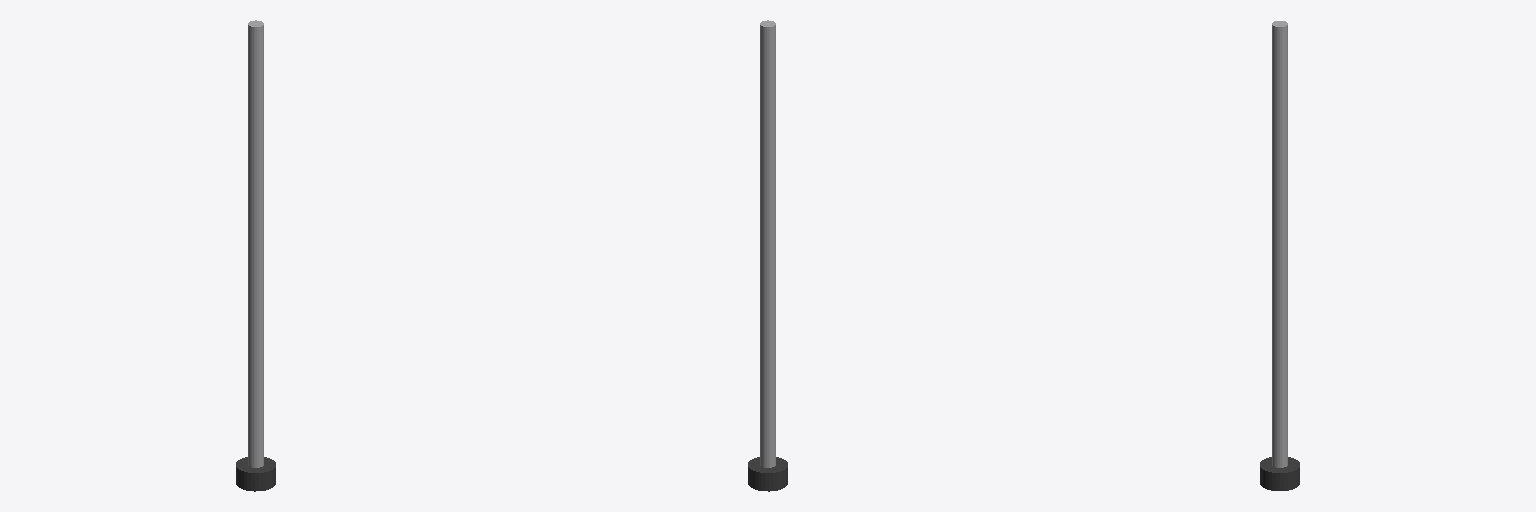
robot.urdf — five_dof_arm:
<?xml version="1.0"?>
<robot name="five_dof_arm">

  <!-- ========================================================= -->
  <!-- MATERIALS -->
  <!-- ========================================================= -->

  <material name="gray">
    <color rgba="0.7 0.7 0.7 1"/>
  </material>

  <material name="dark">
    <color rgba="0.3 0.3 0.3 1"/>
  </material>

  <!-- ========================================================= -->
  <!-- BASE LINK -->
  <!-- ========================================================= -->

  <link name="base_link">

    <visual>
      <origin xyz="0 0 0.05" rpy="0 0 0"/>
      <geometry>
        <cylinder radius="0.10" length="0.10"/>
      </geometry>
      <material name="dark"/>
    </visual>

    <collision>
      <origin xyz="0 0 0.05" rpy="0 0 0"/>
      <geometry>
        <cylinder radius="0.10" length="0.10"/>
      </geometry>
    </collision>

    <inertial>
      <origin xyz="0 0 0.05" rpy="0 0 0"/>
      <mass value="5.0"/>

      <inertia
        ixx="0.02"
        ixy="0.0"
        ixz="0.0"
        iyy="0.02"
        iyz="0.0"
        izz="0.01"/>
    </inertial>

  </link>

  <!-- ========================================================= -->
  <!-- LINK 1 -->
  <!-- ========================================================= -->

  <link name="link1">

    <visual>
      <origin xyz="0 0 0.25" rpy="0 0 0"/>
      <geometry>
        <cylinder radius="0.04" length="0.50"/>
      </geometry>
      <material name="gray"/>
    </visual>

    <collision>
      <origin xyz="0 0 0.25" rpy="0 0 0"/>
      <geometry>
        <cylinder radius="0.04" length="0.50"/>
      </geometry>
    </collision>

    <inertial>
      <origin xyz="0 0 0.25" rpy="0 0 0"/>
      <mass value="1.0"/>

      <inertia
        ixx="0.025"
        ixy="0.0"
        ixz="0.0"
        iyy="0.025"
        iyz="0.0"
        izz="0.001"/>
    </inertial>

  </link>

  <!-- ========================================================= -->
  <!-- LINK 2 -->
  <!-- ========================================================= -->

  <link name="link2">

    <visual>
      <origin xyz="0 0 0.25" rpy="0 0 0"/>
      <geometry>
        <cylinder radius="0.04" length="0.50"/>
      </geometry>
      <material name="gray"/>
    </visual>

    <collision>
      <origin xyz="0 0 0.25" rpy="0 0 0"/>
      <geometry>
        <cylinder radius="0.04" length="0.50"/>
      </geometry>
    </collision>

    <inertial>
      <origin xyz="0 0 0.25" rpy="0 0 0"/>
      <mass value="1.0"/>

      <inertia
        ixx="0.025"
        ixy="0.0"
        ixz="0.0"
        iyy="0.025"
        iyz="0.0"
        izz="0.001"/>
    </inertial>

  </link>

  <!-- ========================================================= -->
  <!-- LINK 3 -->
  <!-- ========================================================= -->

  <link name="link3">

    <visual>
      <origin xyz="0 0 0.25" rpy="0 0 0"/>
      <geometry>
        <cylinder radius="0.04" length="0.50"/>
      </geometry>
      <material name="gray"/>
    </visual>

    <collision>
      <origin xyz="0 0 0.25" rpy="0 0 0"/>
      <geometry>
        <cylinder radius="0.04" length="0.50"/>
      </geometry>
    </collision>

    <inertial>
      <origin xyz="0 0 0.25" rpy="0 0 0"/>
      <mass value="1.0"/>

      <inertia
        ixx="0.025"
        ixy="0.0"
        ixz="0.0"
        iyy="0.025"
        iyz="0.0"
        izz="0.001"/>
    </inertial>

  </link>

  <!-- ========================================================= -->
  <!-- LINK 4 -->
  <!-- ========================================================= -->

  <link name="link4">

    <visual>
      <origin xyz="0 0 0.25" rpy="0 0 0"/>
      <geometry>
        <cylinder radius="0.04" length="0.50"/>
      </geometry>
      <material name="gray"/>
    </visual>

    <collision>
      <origin xyz="0 0 0.25" rpy="0 0 0"/>
      <geometry>
        <cylinder radius="0.04" length="0.50"/>
      </geometry>
    </collision>

    <inertial>
      <origin xyz="0 0 0.25" rpy="0 0 0"/>
      <mass value="1.0"/>

      <inertia
        ixx="0.025"
        ixy="0.0"
        ixz="0.0"
        iyy="0.025"
        iyz="0.0"
        izz="0.001"/>
    </inertial>

  </link>

  <!-- ========================================================= -->
  <!-- LINK 5 -->
  <!-- ========================================================= -->

  <link name="link5">

    <visual>
      <origin xyz="0 0 0.20" rpy="0 0 0"/>
      <geometry>
        <cylinder radius="0.04" length="0.40"/>
      </geometry>
      <material name="gray"/>
    </visual>

    <collision>
      <origin xyz="0 0 0.20" rpy="0 0 0"/>
      <geometry>
        <cylinder radius="0.04" length="0.40"/>
      </geometry>
    </collision>

    <inertial>
      <origin xyz="0 0 0.20" rpy="0 0 0"/>
      <mass value="0.8"/>

      <inertia
        ixx="0.015"
        ixy="0.0"
        ixz="0.0"
        iyy="0.015"
        iyz="0.0"
        izz="0.001"/>
    </inertial>

  </link>

  <!-- ========================================================= -->
  <!-- JOINT 1 : BASE YAW -->
  <!-- ========================================================= -->

  <joint name="joint1" type="revolute">

    <parent link="base_link"/>
    <child link="link1"/>

    <origin xyz="0 0 0.10" rpy="0 0 0"/>

    <!-- rotation about z -->
    <axis xyz="0 0 1"/>

    <limit
      lower="-3.14"
      upper="3.14"
      effort="20"
      velocity="2"/>

  </joint>

  <!-- ========================================================= -->
  <!-- JOINT 2 -->
  <!-- ========================================================= -->

  <joint name="joint2" type="revolute">

    <parent link="link1"/>
    <child link="link2"/>

    <origin xyz="0 0 0.50" rpy="0 0 0"/>

    <!-- elbow style -->
    <axis xyz="0 1 0"/>

    <limit
      lower="-1.57"
      upper="1.57"
      effort="15"
      velocity="2"/>

  </joint>

  <!-- ========================================================= -->
  <!-- JOINT 3 -->
  <!-- ========================================================= -->

  <joint name="joint3" type="revolute">

    <parent link="link2"/>
    <child link="link3"/>

    <origin xyz="0 0 0.50" rpy="0 0 0"/>

    <axis xyz="0 1 0"/>

    <limit
      lower="-1.57"
      upper="1.57"
      effort="15"
      velocity="2"/>

  </joint>

  <!-- ========================================================= -->
  <!-- JOINT 4 -->
  <!-- ========================================================= -->

  <joint name="joint4" type="revolute">

    <parent link="link3"/>
    <child link="link4"/>

    <origin xyz="0 0 0.50" rpy="0 0 0"/>

    <axis xyz="0 1 0"/>

    <limit
      lower="-1.57"
      upper="1.57"
      effort="10"
      velocity="2"/>

  </joint>

  <!-- ========================================================= -->
  <!-- JOINT 5 -->
  <!-- ========================================================= -->

  <joint name="joint5" type="revolute">

    <parent link="link4"/>
    <child link="link5"/>

    <origin xyz="0 0 0.50" rpy="0 0 0"/>

    <axis xyz="0 1 0"/>

    <limit
      lower="-1.57"
      upper="1.57"
      effort="10"
      velocity="2"/>

  </joint>

</robot>

--- Render facts (derived) ---
3 views of the same robot in one strip: view 1: azimuth 30°, elevation 25°; view 2: azimuth 150°, elevation 25°; view 3: azimuth 270°, elevation 25° (orthographic).
Robot: five_dof_arm — 6 links, 5 joints (5 revolute); root link base_link; default pose: every joint at zero.
Links seen in each view (by area): view 1: link2, link1, link4, link3, link5, base_link; view 2: link2, link1, link4, link3, link5, base_link; view 3: link2, link1, link4, link3, link5, base_link.
Link boxes in pixels (<box>): link2: <box>248,282,263,375</box>; link1: <box>248,374,263,467</box>; link4: <box>248,99,263,192</box>; link3: <box>248,190,263,283</box>; link5: <box>248,20,263,100</box>; base_link: <box>236,457,275,491</box>; link2: <box>760,282,775,375</box>; link1: <box>760,374,775,467</box>; link4: <box>760,99,775,192</box>; link3: <box>760,190,775,283</box>; link5: <box>760,20,775,100</box>; base_link: <box>748,457,787,491</box>; link2: <box>1272,282,1287,375</box>; link1: <box>1272,374,1287,467</box>; link4: <box>1272,99,1287,192</box>; link3: <box>1272,190,1287,283</box>; link5: <box>1272,21,1287,100</box>; base_link: <box>1260,457,1299,490</box>.
Bounding box of the posed robot: 0.2 × 0.2 × 2.5 m (x, y, z).
Geometry: primitives only (box / cylinder / sphere), no mesh files.
